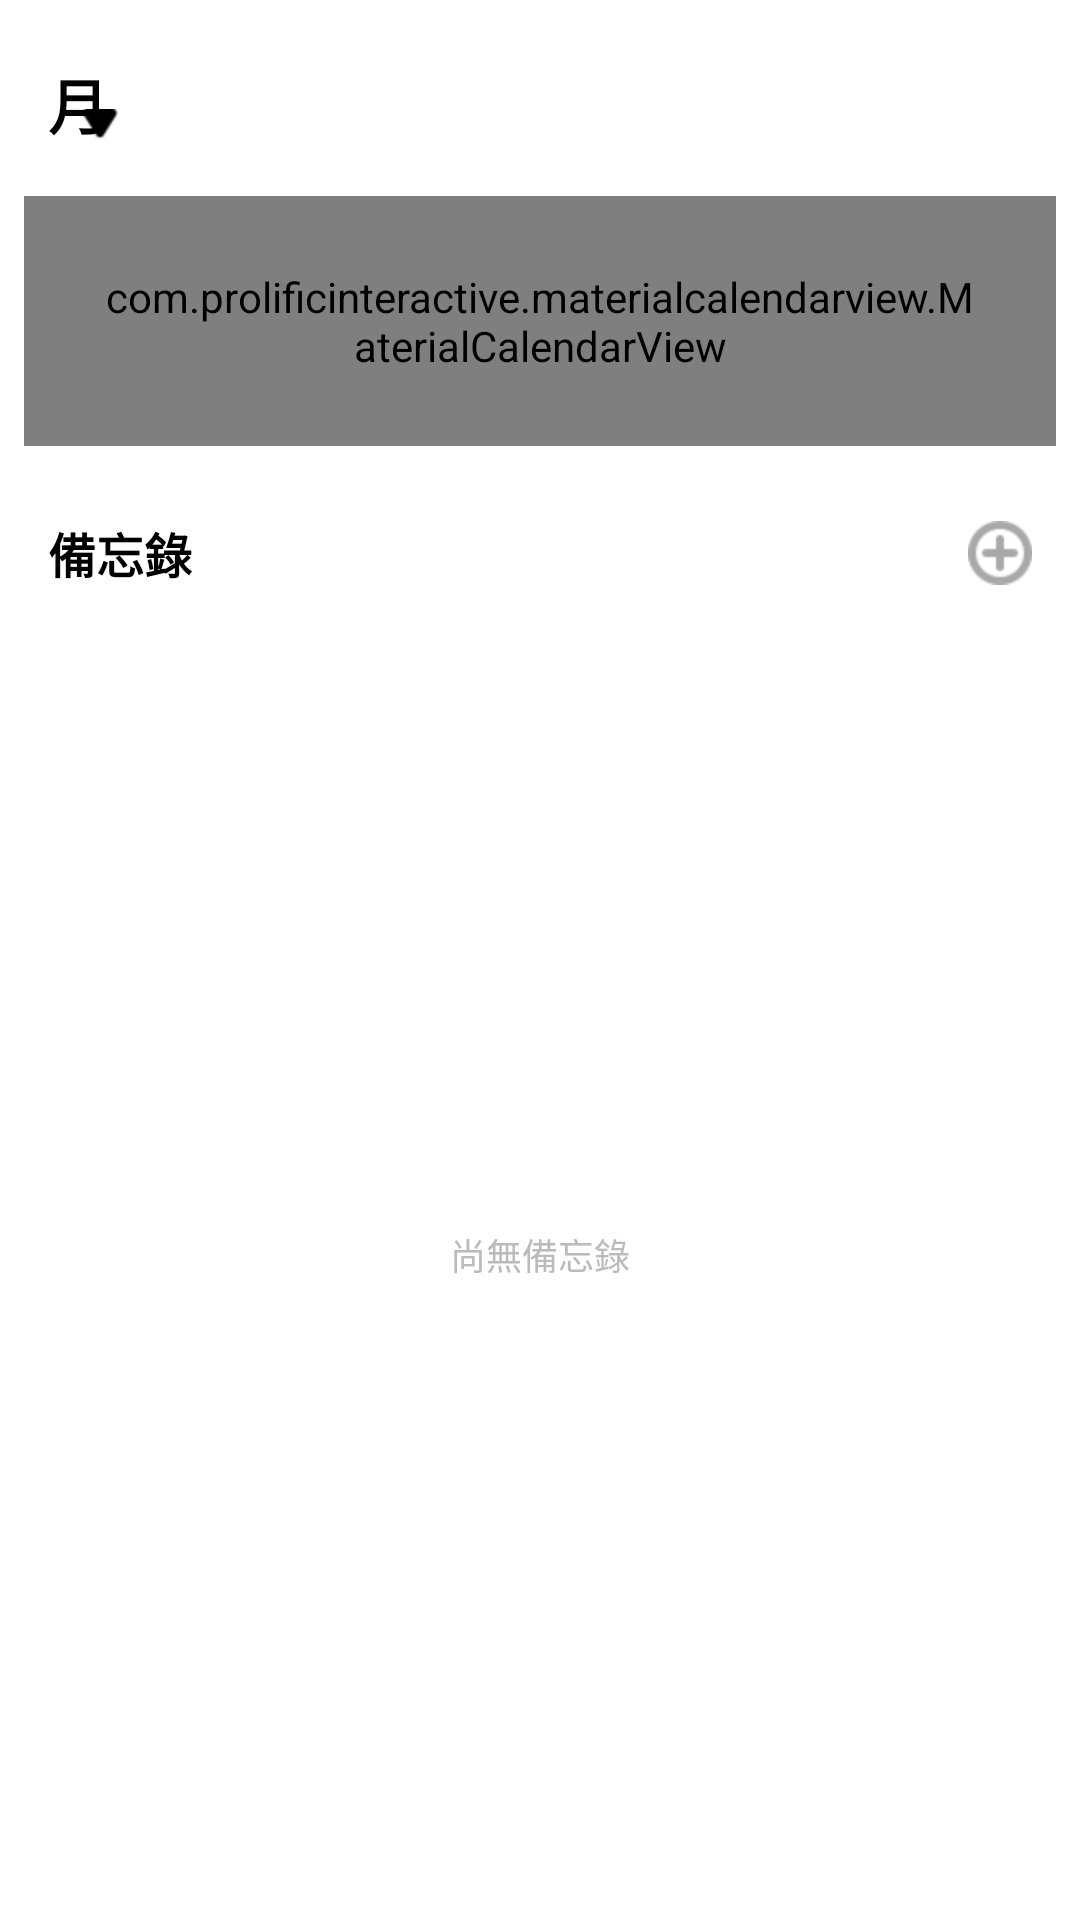

Point at icon controls on the screen. Image size 1080 x 1920, points as (x,y).
add: (1000,553)
calendar down: (99,123)
